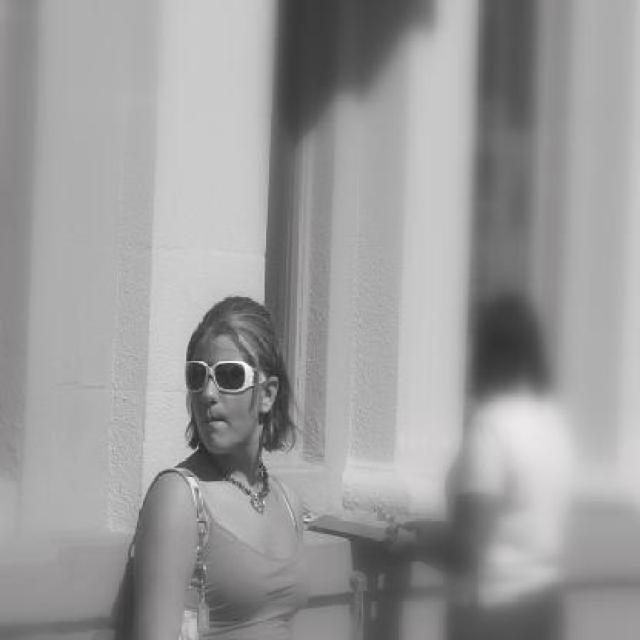face_nomask: (179, 358, 263, 439)
glasses: (185, 359, 268, 396)
head_nohelmet: (184, 293, 282, 358)
person: (107, 289, 324, 640)
